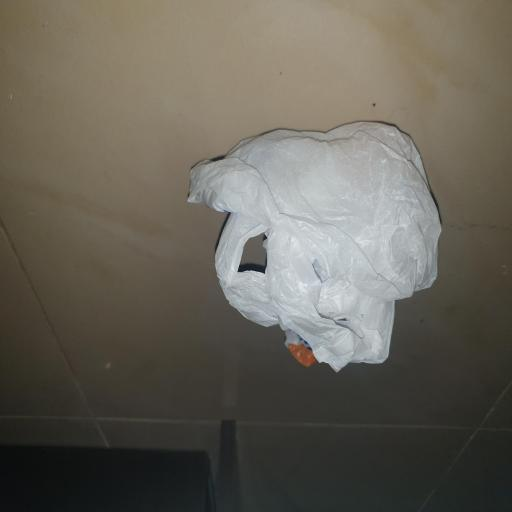plastic bag: (189, 120, 442, 377)
